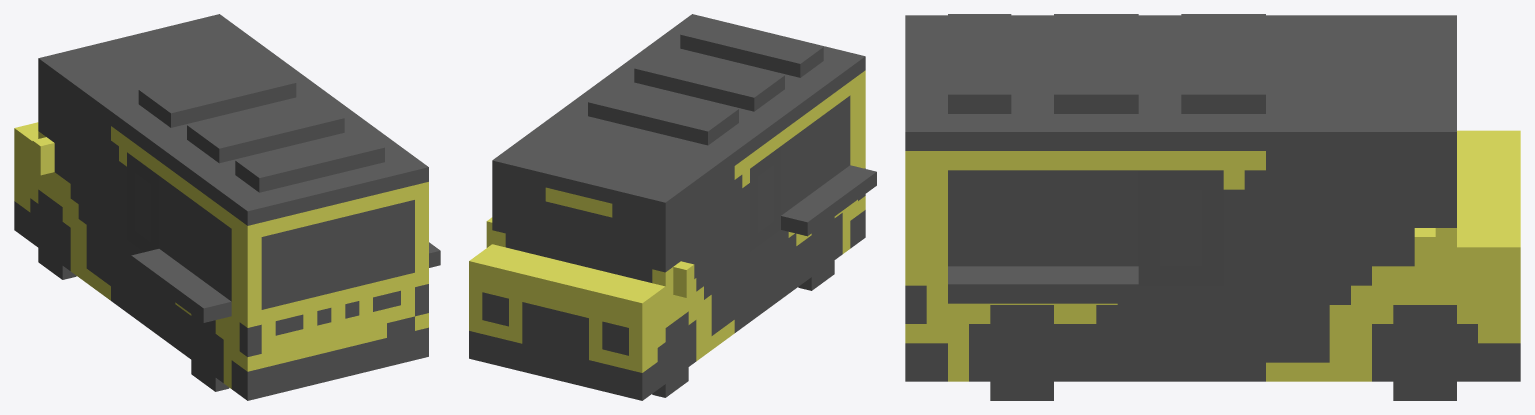
The model's file is veh_lunch3.obj.
The picture shows the model from 3 angles, left to right: view 1: azimuth 30°, elevation 25°; view 2: azimuth 150°, elevation 25°; view 3: azimuth 270°, elevation 25°; orthographic projection. The views are drawn at different scales.
Size of the model in its own units: 17 by 15 by 29.
